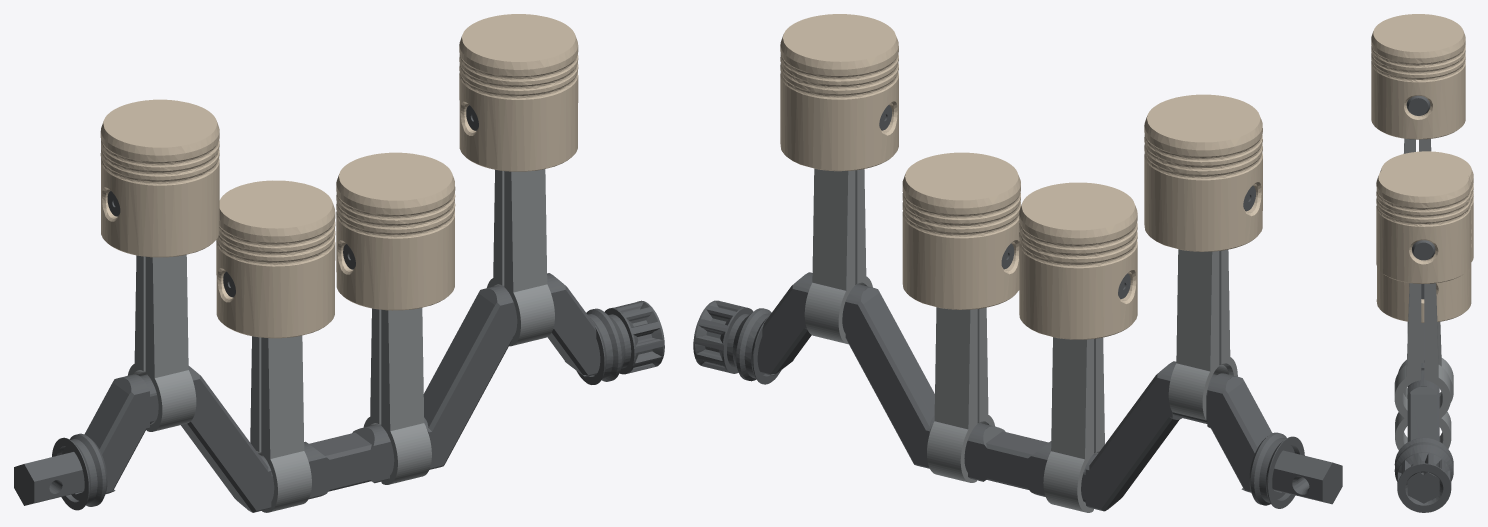
Rendered from Piston.glb.
3 views of the same model, side by side, from view 1: azimuth 30°, elevation 25°; view 2: azimuth 150°, elevation 25°; view 3: azimuth 270°, elevation 25° (orthographic). The views are drawn at different scales.
Visible parts, largest first — view 1: Mesh_Mesh_head_geo.001_lambert2SG.001; view 2: Mesh_Mesh_head_geo.001_lambert2SG.001; view 3: Mesh_Mesh_head_geo.001_lambert2SG.001.
Boxes of the visible parts, x1,y1,x2,y2 form: Mesh_Mesh_head_geo.001_lambert2SG.001: [14, 14, 664, 512]; Mesh_Mesh_head_geo.001_lambert2SG.001: [693, 14, 1342, 512]; Mesh_Mesh_head_geo.001_lambert2SG.001: [1371, 14, 1473, 512].
Size of the model in its own units: 0.1433 by 0.0911 by 0.0256.
